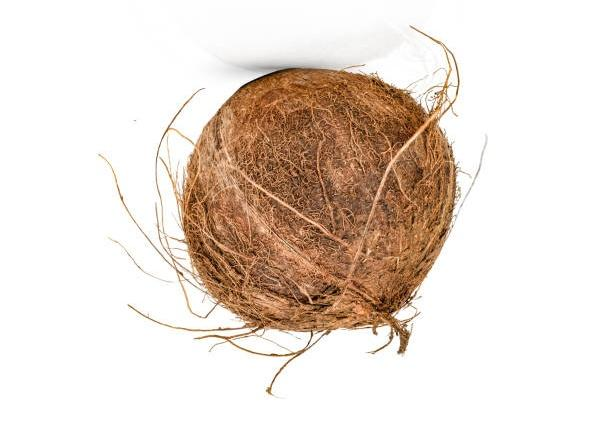coconut: (178, 64, 460, 339)
